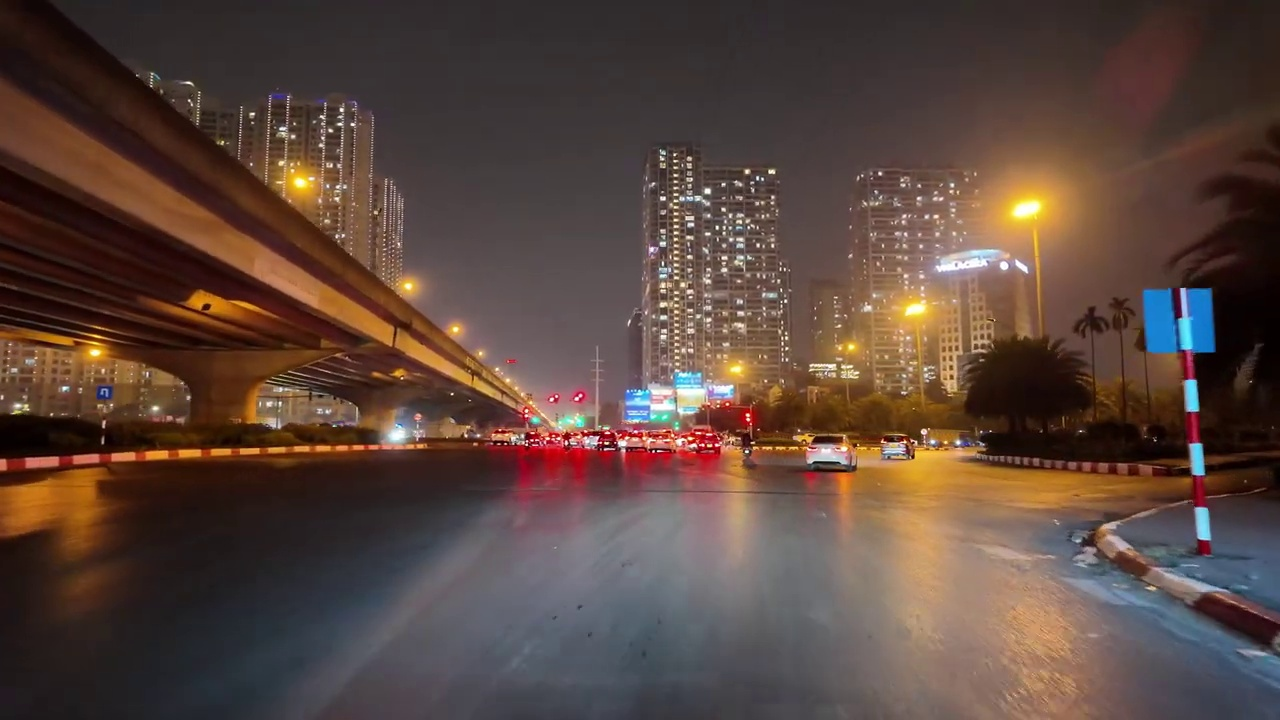acesa: (1004, 192, 1048, 229), (899, 299, 933, 325), (394, 274, 422, 300), (723, 359, 750, 381)
